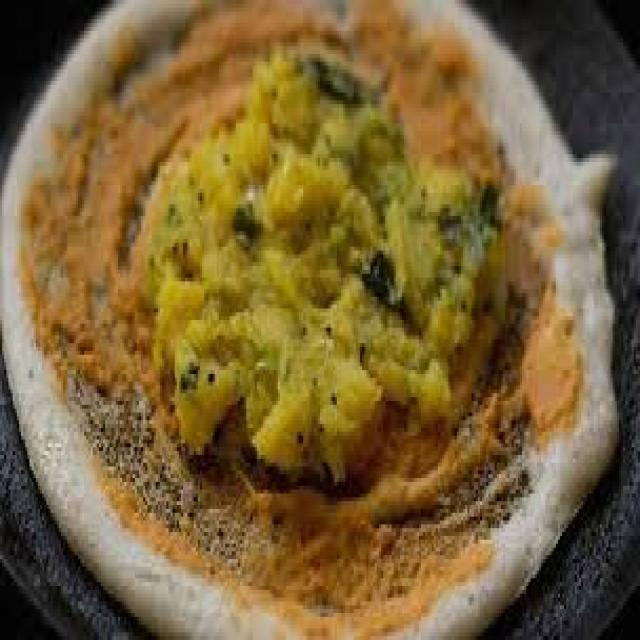DOSA: (2, 0, 615, 636)
